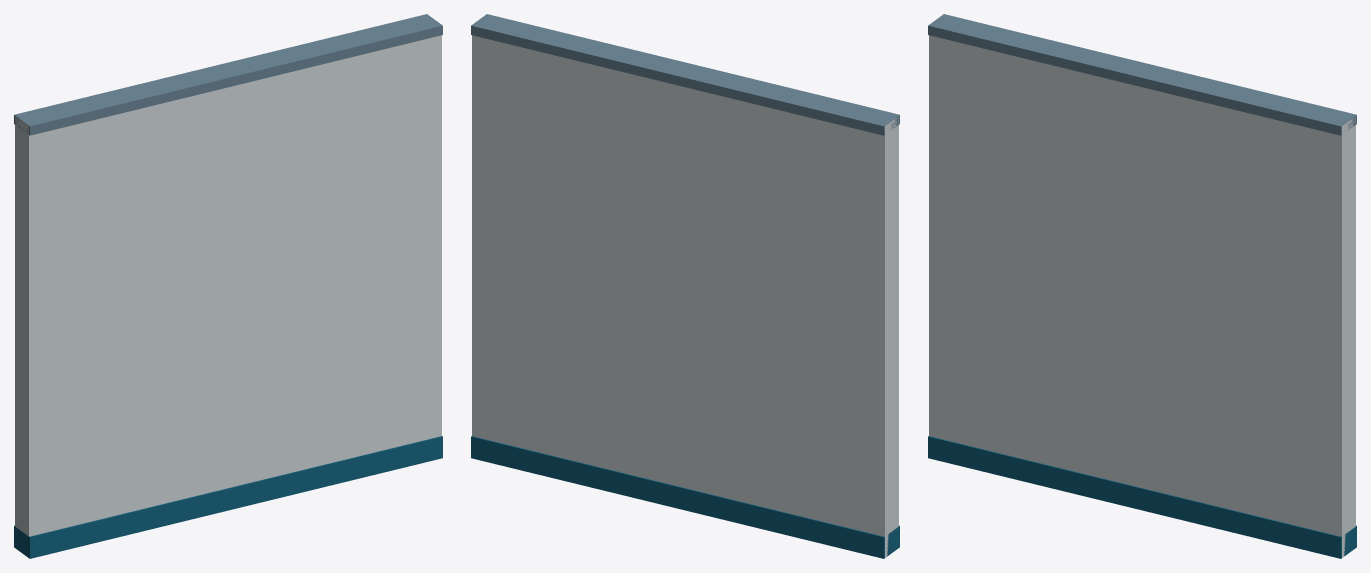
Rendered from wall.f6ed521987a6.glb.
3 renders of one model, left to right at view 1: azimuth 30°, elevation 25°; view 2: azimuth 150°, elevation 25°; view 3: azimuth 330°, elevation 25°, orthographic.
Visible parts, largest first — view 1: wall_panel_0001, top_trim_0003, skirting_0002; view 2: wall_panel_0001, top_trim_0003, skirting_0002; view 3: wall_panel_0001, top_trim_0003, skirting_0002.
Boxes of the visible parts, x1,y1,x2,y2 form: wall_panel_0001: (15,35,441,536); top_trim_0003: (14,14,442,135); skirting_0002: (14,436,442,558); wall_panel_0001: (472,35,898,557); top_trim_0003: (471,14,899,135); skirting_0002: (471,436,899,558); wall_panel_0001: (929,35,1355,557); top_trim_0003: (928,14,1356,135); skirting_0002: (928,436,1356,558).
Size of the model in its own units: 3 by 3 by 0.2.
